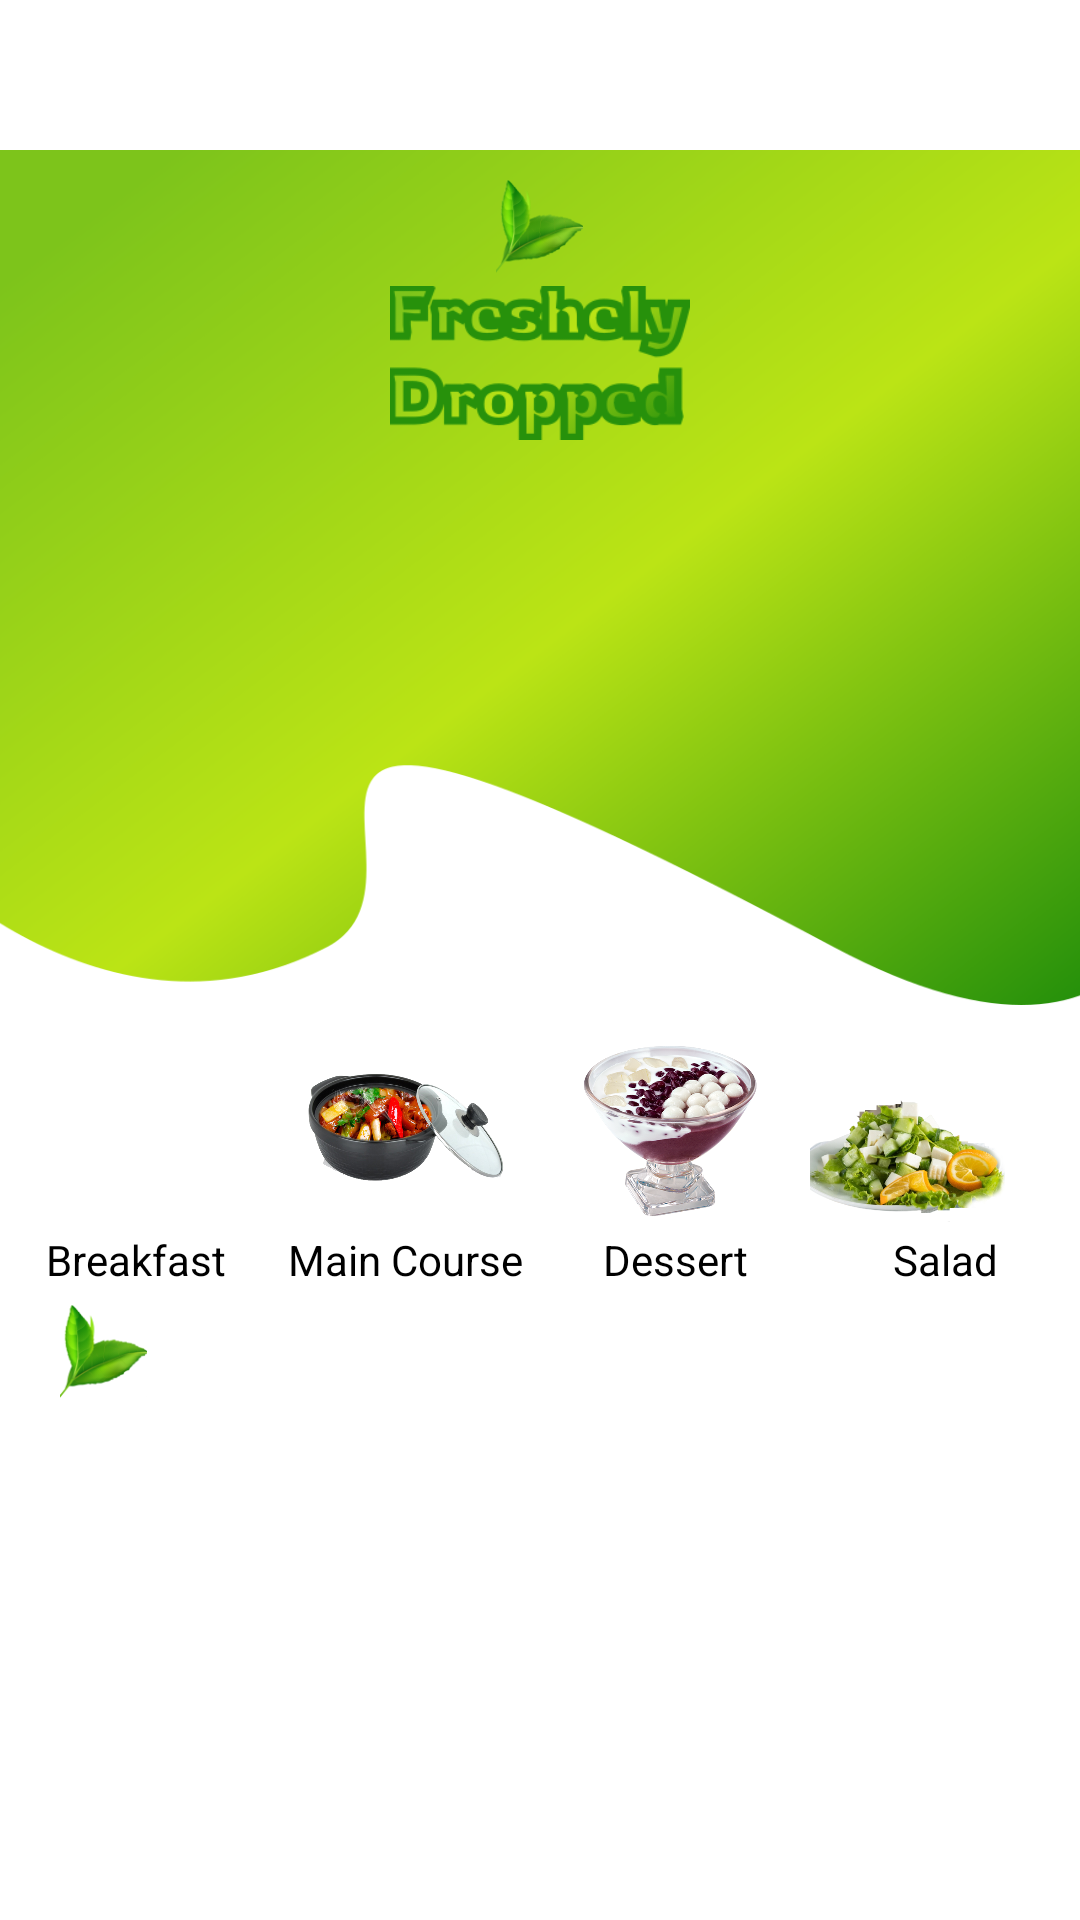

Icons on this 1080 x 1920 Android screen, each with the point to tap as [x,y]:
home leaf: [539,226], [103,1351]
